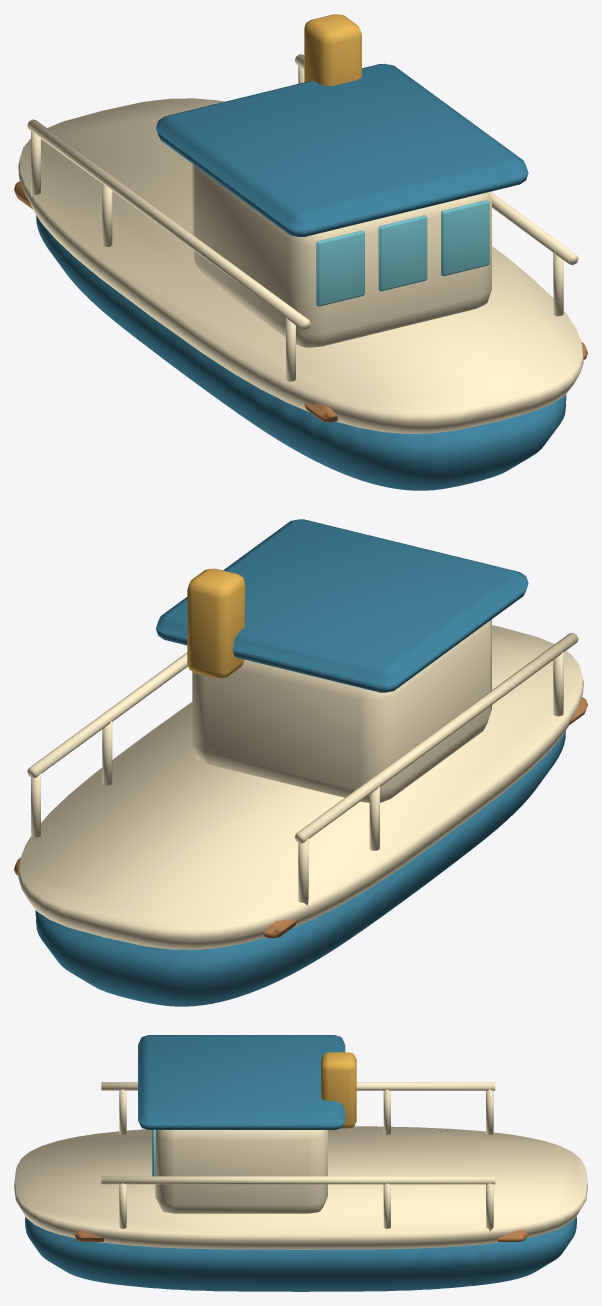
File: route_ferry.glb
The picture shows the model from 3 angles, top to bottom: view 1: azimuth 30°, elevation 25°; view 2: azimuth 150°, elevation 25°; view 3: azimuth 270°, elevation 25°; orthographic projection. The views are drawn at different scales.
Parts seen in each view (by area): view 1: route_ferry_crafted_mesh; view 2: route_ferry_crafted_mesh; view 3: route_ferry_crafted_mesh.
Boxes of the visible parts, x1,y1,x2,y2 form: route_ferry_crafted_mesh: (14, 14, 587, 490); route_ferry_crafted_mesh: (14, 519, 587, 1006); route_ferry_crafted_mesh: (14, 1035, 587, 1291).
Size of the model in its own units: 2.4 by 2.42 by 5.32.
